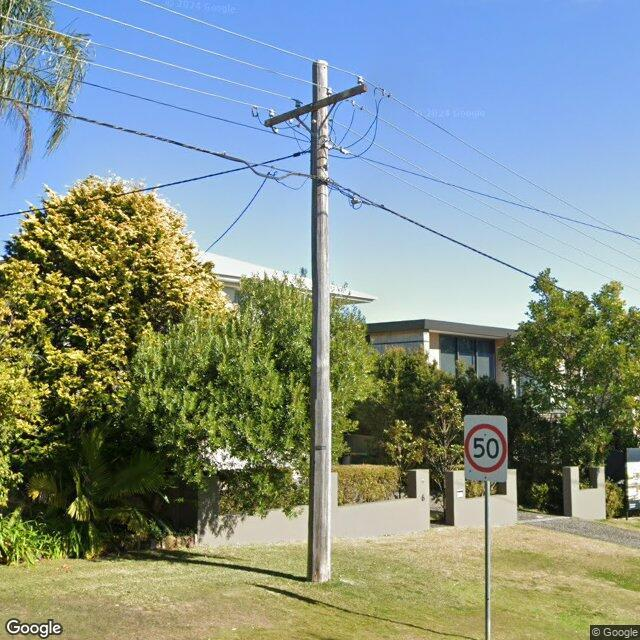crossarm: (264, 83, 365, 128)
timber-pole: (306, 59, 331, 584)
